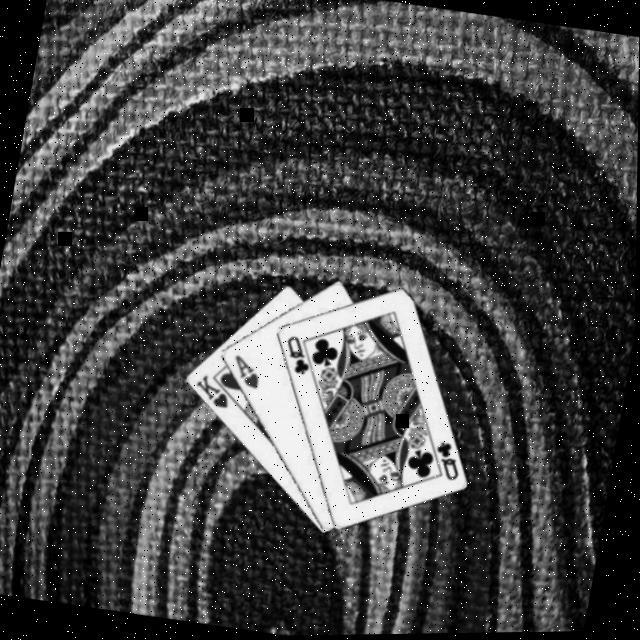AH: (226, 351, 265, 392)
KH: (189, 370, 236, 413)
QC: (278, 332, 317, 378), (429, 437, 468, 483)
